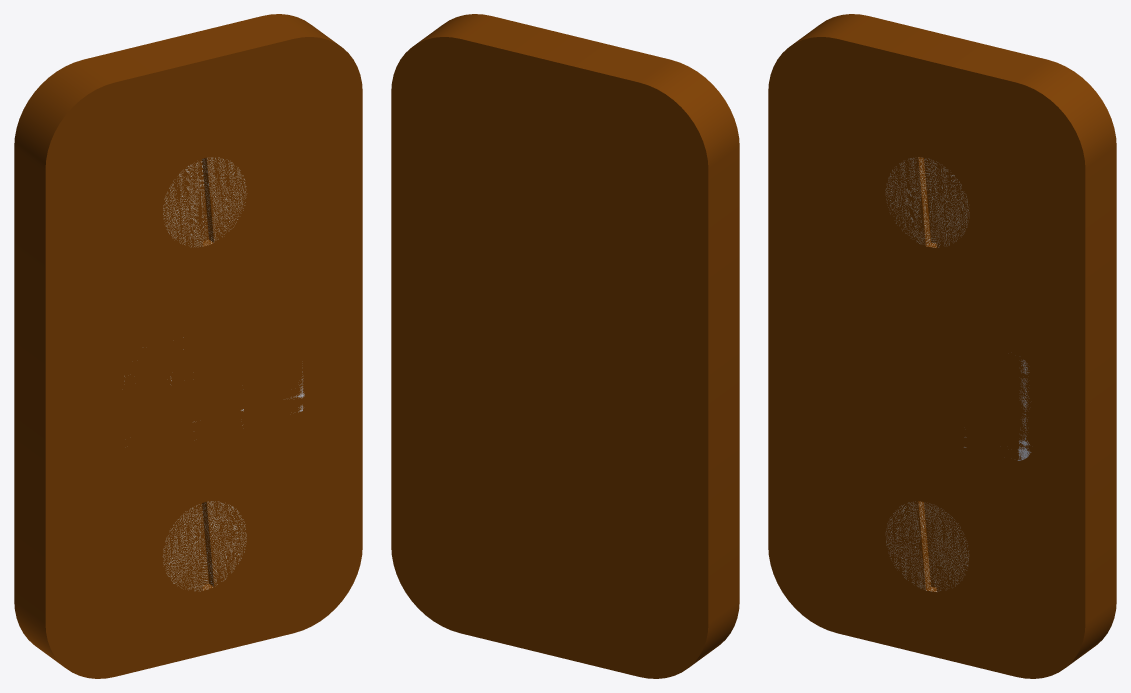
Rendered from 9969515-lock.dae.
3 renders of one model, left to right at view 1: azimuth 30°, elevation 25°; view 2: azimuth 150°, elevation 25°; view 3: azimuth 330°, elevation 25°, orthographic.
Parts seen in each view (by area): view 1: group_1.308, group_1.306, group_1.307; view 2: group_1.308; view 3: group_1.308, group_1.306, group_1.307.
Boxes of the visible parts, x1,y1,x2,y2 form: group_1.308: (14, 14, 362, 678); group_1.306: (162, 501, 247, 591); group_1.307: (162, 156, 247, 247); group_1.308: (391, 14, 739, 678); group_1.308: (768, 14, 1116, 678); group_1.306: (885, 501, 969, 591); group_1.307: (885, 157, 969, 247).
Size of the model in its own units: 0.0283 by 0.00484 by 0.0507.
4 materials, 1 textured.
